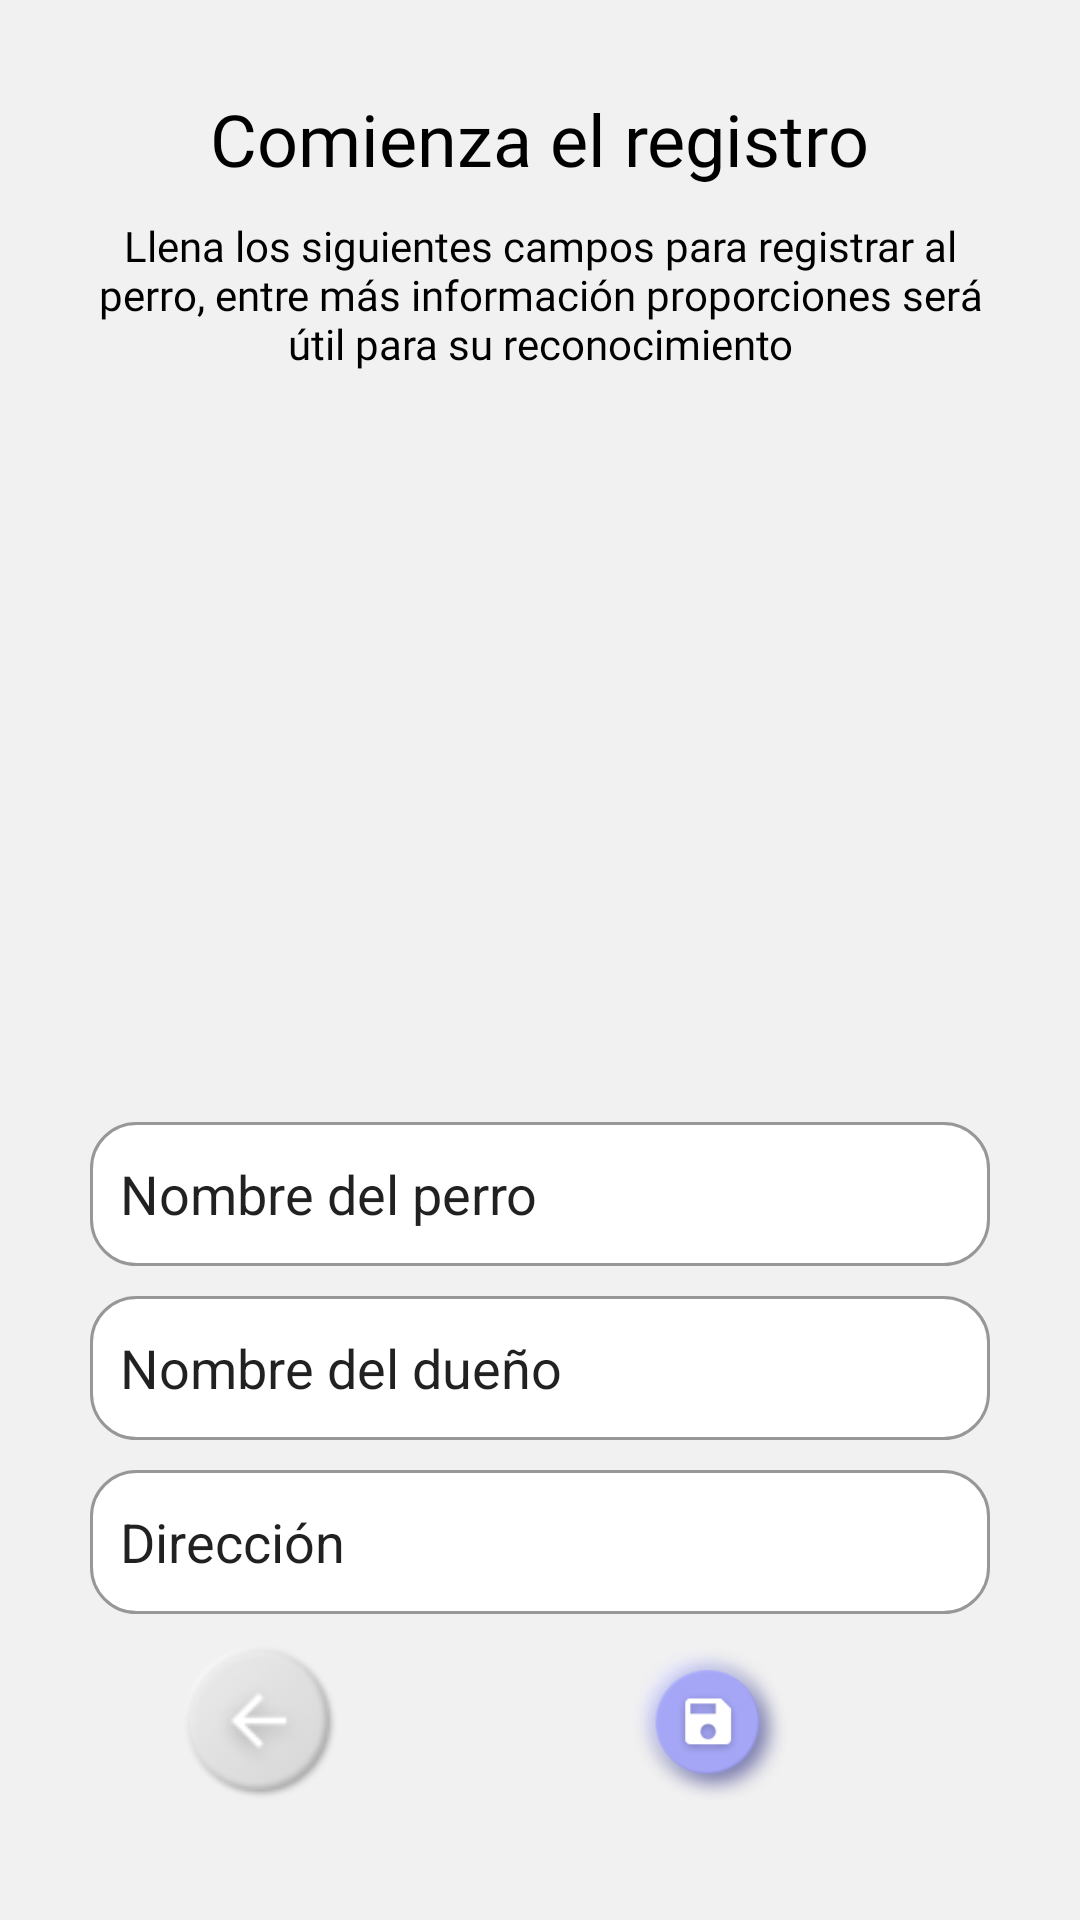

Point at icon controls on the screen. Image size 1080px×1920px, points as [x,y].
Regresar: [261,1723]
save: [712,1726]
